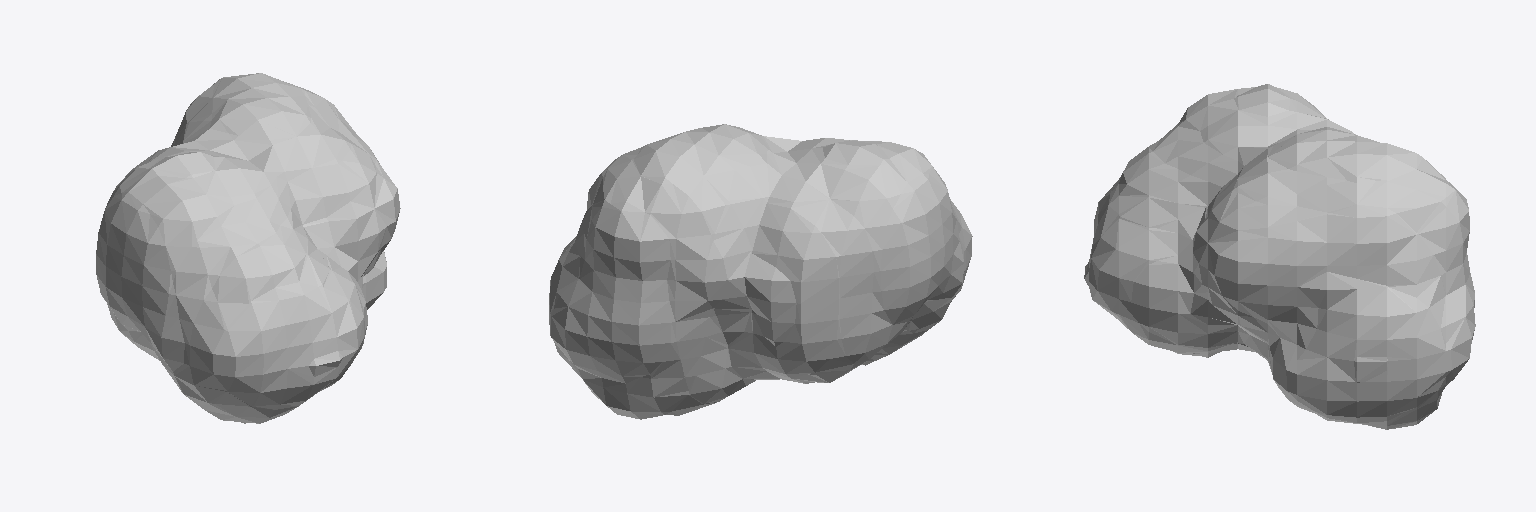
Rendered from 1k20_cms.obj.
3 views of the same model, side by side, from view 1: azimuth 30°, elevation 25°; view 2: azimuth 150°, elevation 25°; view 3: azimuth 270°, elevation 25° (orthographic).
Size of the model in its own units: 78.16 by 63.14 by 84.57.